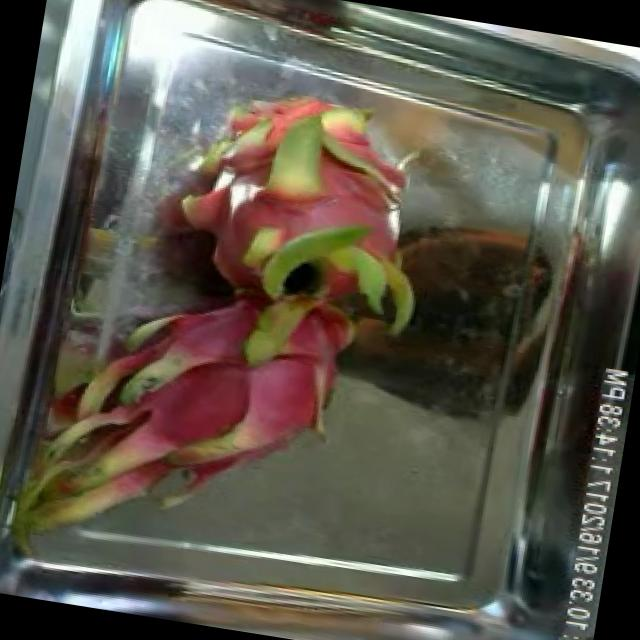Fruit: (205, 112, 300, 204)
